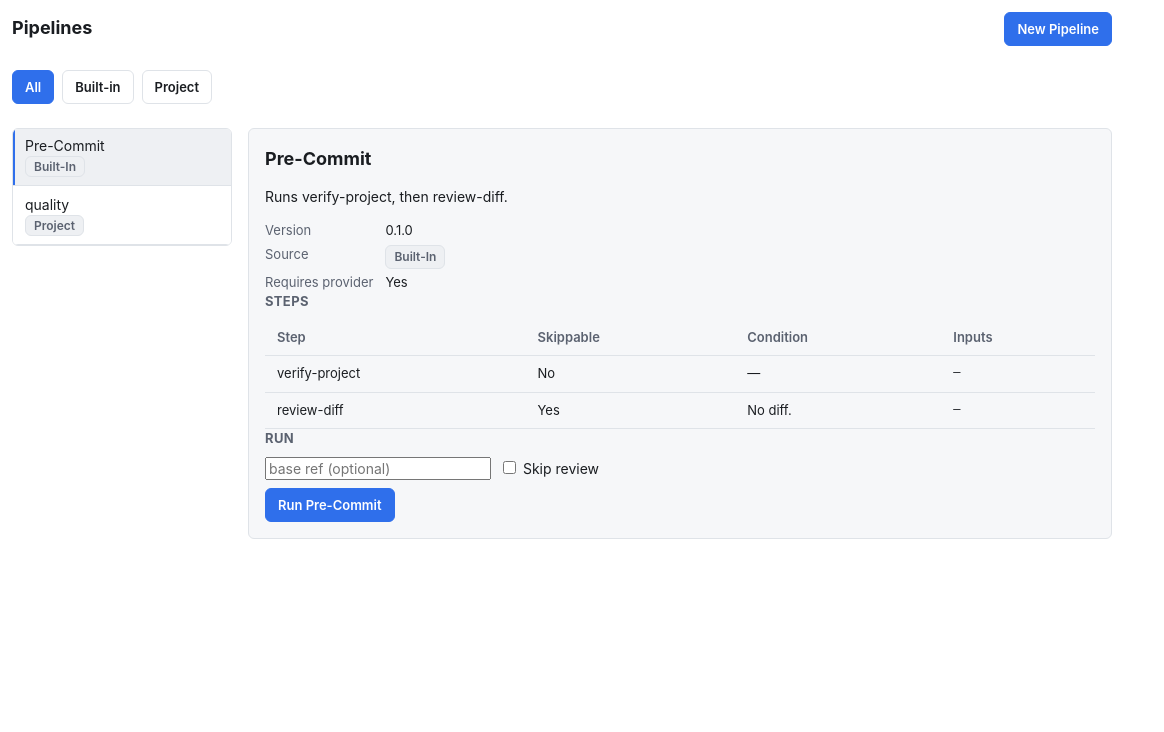
Test: PipelinesPage › shows the project-relative path for a project-local pipeline
Step 1. Click the button "quality Project" → (122, 216), box x1=13 y1=188 x2=231 y2=245
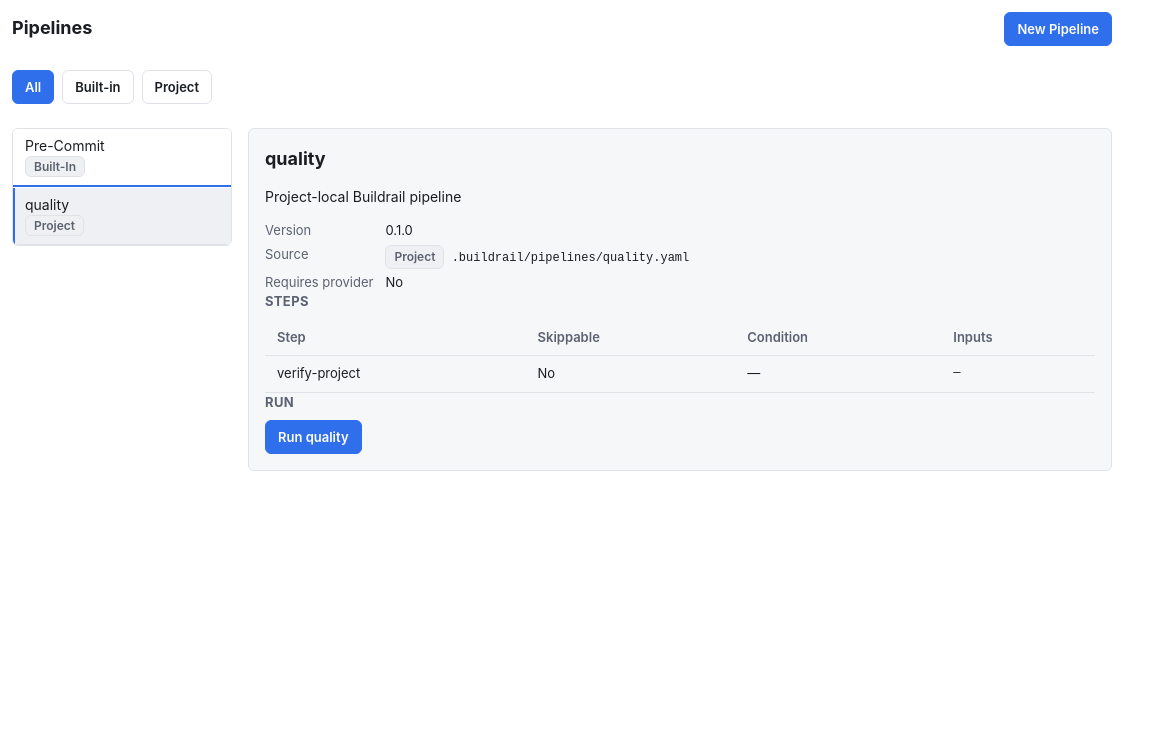
Now the text ".buildrail/pipelines/quality.yaml" is shown, box x1=444 y1=250 x2=689 y2=264
